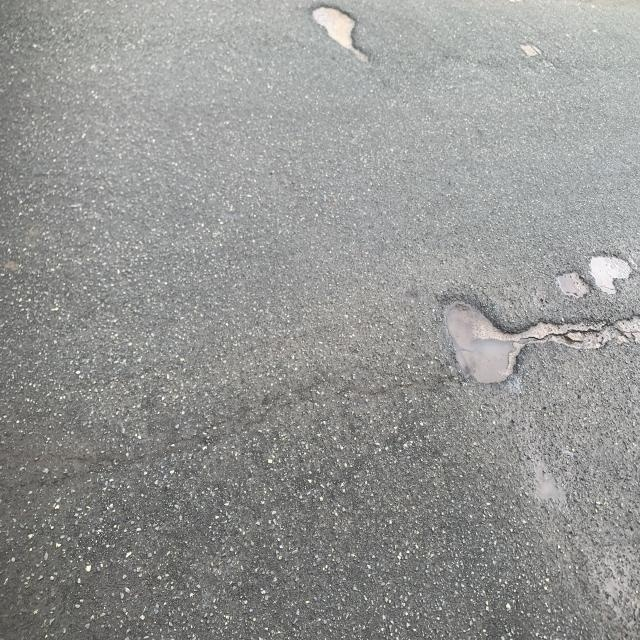pothole: (444, 292, 526, 394), (559, 258, 633, 306)
